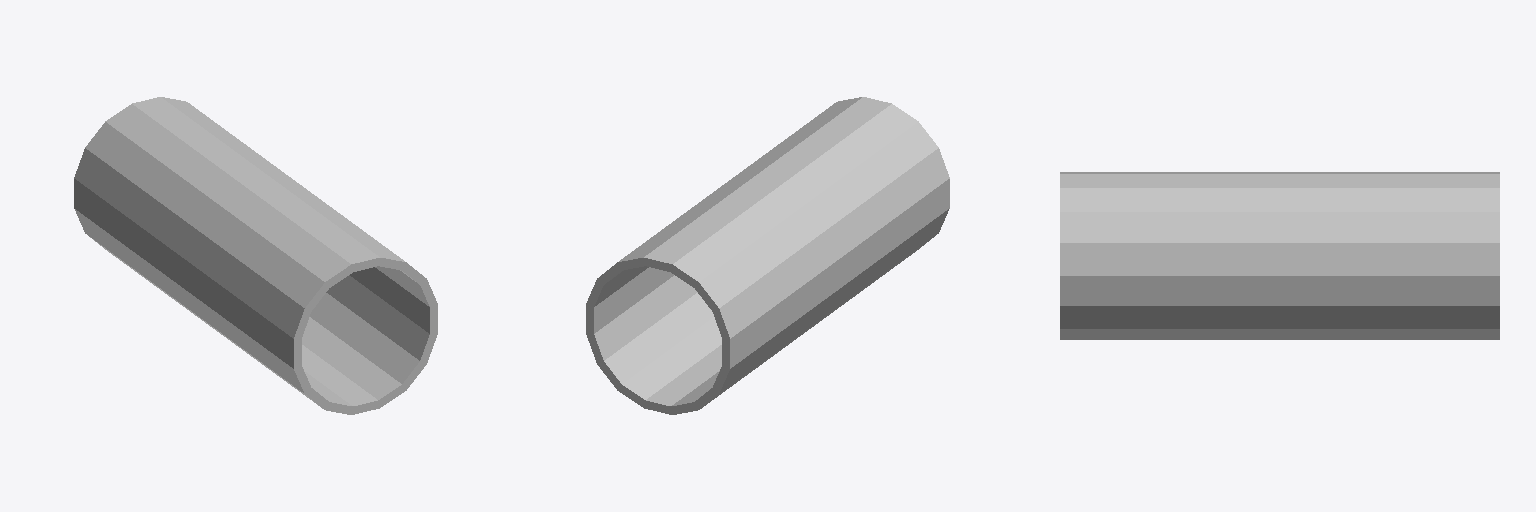
The model's file is coral.obj.
The picture shows the model from 3 angles: view 1: azimuth 30°, elevation 25°; view 2: azimuth 150°, elevation 25°; view 3: azimuth 270°, elevation 25°; orthographic projection.
Visible parts, largest first — view 1: mesh7, mesh8, mesh6, mesh9, mesh5, mesh10, mesh16, mesh20, mesh4, mesh19, mesh21, mesh18 (+2 smaller); view 2: mesh7, mesh8, mesh6, mesh9, mesh5, mesh10, mesh17, mesh20, mesh4, mesh19, mesh21, mesh18 (+2 smaller); view 3: mesh2, mesh3, mesh1, mesh4, mesh0, mesh5, mesh15, mesh6.
Boxes of the visible parts, box(x1,y1,x2,y2) form: mesh7: box(85, 122, 324, 307); mesh8: box(74, 148, 304, 338); mesh6: box(105, 104, 350, 281); mesh9: box(74, 179, 293, 368); mesh5: box(132, 97, 379, 263); mesh10: box(75, 209, 303, 392); mesh16: box(294, 258, 437, 414); mesh20: box(310, 293, 419, 383); mesh4: box(162, 97, 404, 261); mesh19: box(326, 275, 429, 360); mesh21: box(302, 317, 401, 399); mesh18: box(350, 267, 429, 333); mesh7: box(699, 122, 938, 307); mesh8: box(719, 148, 949, 338); mesh6: box(673, 104, 918, 281); mesh9: box(730, 179, 949, 368); mesh5: box(644, 97, 891, 263); mesh10: box(720, 209, 948, 392); mesh17: box(586, 258, 729, 414); mesh20: box(604, 293, 713, 383); mesh4: box(619, 97, 861, 261); mesh19: box(594, 275, 697, 360); mesh21: box(622, 317, 721, 399); mesh18: box(594, 267, 673, 333); mesh2: box(1060, 243, 1499, 275); mesh3: box(1060, 212, 1499, 242); mesh1: box(1060, 276, 1499, 305); mesh4: box(1060, 188, 1499, 211); mesh0: box(1060, 306, 1499, 328); mesh5: box(1060, 174, 1499, 187); mesh15: box(1060, 329, 1499, 339); mesh6: box(1060, 172, 1499, 173).
Size of the model in its own units: 0.1143 by 0.1143 by 0.3016.